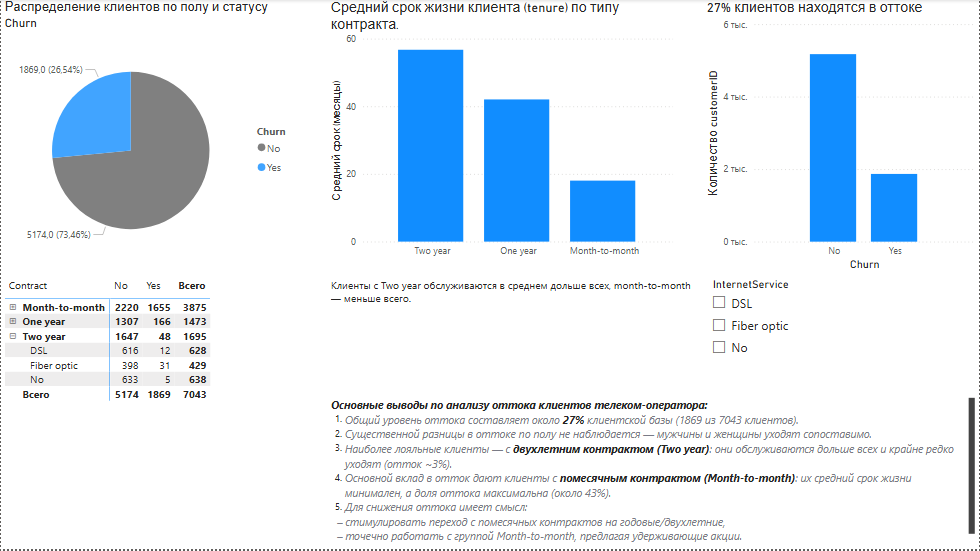

The page's visual inventory and layout, read from the dashboard file:
{"tool":"powerbi","page":{"name":"Страница 1","canvas":[1280,720],"ordinal":0},"visuals":[{"type":"pieChart","title":"Распределение клиентов по полу и статусу Churn","fields":{"Y":["CountNonNull(WA_Fn-UseC_-Telco-Customer-Churn.gender)"],"Category":["WA_Fn-UseC_-Telco-Customer-Churn.Churn"]},"box":[0,0,397.8,360.6],"z":0},{"type":"slicer","fields":{"Values":["WA_Fn-UseC_-Telco-Customer-Churn.InternetService"]},"box":[919.4,360.6,360.6,173.4],"z":1000},{"type":"pivotTable","fields":{"Rows":["WA_Fn-UseC_-Telco-Customer-Churn.Contract","WA_Fn-UseC_-Telco-Customer-Churn.InternetService"],"Columns":["WA_Fn-UseC_-Telco-Customer-Churn.Churn"],"Values":["CountNonNull(WA_Fn-UseC_-Telco-Customer-Churn.customerID)"]},"box":[0,360.6,360.6,212],"z":2000},{"type":"columnChart","title":"Средний срок жизни клиента (tenure) по типу контракта.","fields":{"Category":["WA_Fn-UseC_-Telco-Customer-Churn.Contract"],"Y":["Avg(WA_Fn-UseC_-Telco-Customer-Churn.tenure)"]},"box":[426.7,0,458.3,360.6],"z":3000},{"type":"columnChart","title":"27% клиентов находятся в оттоке","fields":{"Category":["WA_Fn-UseC_-Telco-Customer-Churn.Churn"],"Y":["CountNonNull(WA_Fn-UseC_-Telco-Customer-Churn.customerID)"]},"box":[919.3,0,360.7,360.7],"z":4000},{"type":"textbox","box":[426.7,360.6,492.7,60.6],"z":5000},{"type":"textbox","box":[426.7,517.5,853.3,202.3],"z":5001}]}

Visuals, with their boxes in screenshot pixels (x1, y1, x2, y2), scaled from the page's 1280x720 canvas onto the 980x551 screenshot:
"Распределение клиентов по полу и статусу Churn" pieChart: (left=0, top=0, right=305, bottom=276)
slicer - WA_Fn-UseC_-Telco-Customer-Churn.InternetService: (left=704, top=276, right=979, bottom=409)
pivotTable - WA_Fn-UseC_-Telco-Customer-Churn.Contract x WA_Fn-UseC_-Telco-Customer-Churn.InternetService: (left=0, top=276, right=276, bottom=438)
"Средний срок жизни клиента (tenure) по типу контракта." columnChart: (left=327, top=0, right=678, bottom=276)
"27% клиентов находятся в оттоке" columnChart: (left=704, top=0, right=979, bottom=276)
textbox: (left=327, top=276, right=704, bottom=322)
textbox: (left=327, top=396, right=979, bottom=550)
